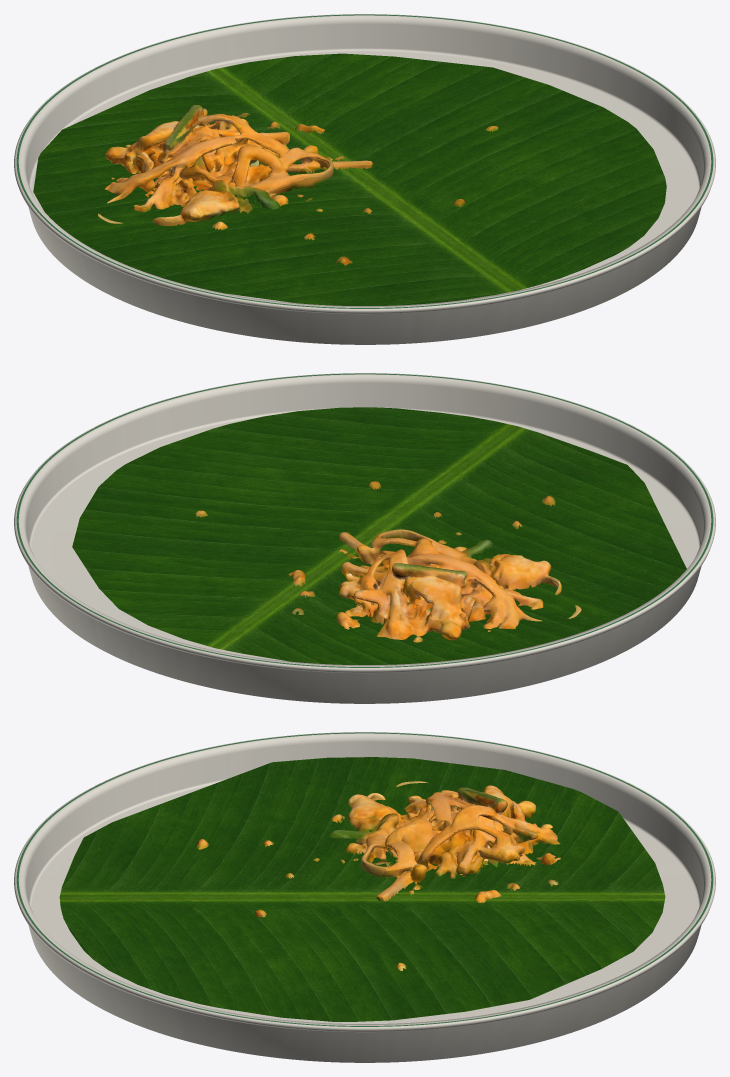
File: pad-thai-3.glb
3 renders of one model, top to bottom at view 1: azimuth 30°, elevation 25°; view 2: azimuth 150°, elevation 25°; view 3: azimuth 270°, elevation 25°, orthographic.
Parts seen in each view (by area): view 1: canonical/continuous-leaf-repair, support/regular-closed-plate, food/independent-stage-3; view 2: canonical/continuous-leaf-repair, support/regular-closed-plate, food/independent-stage-3; view 3: canonical/continuous-leaf-repair, support/regular-closed-plate, food/independent-stage-3.
Part boxes in pixels (box(x1,y1,x2,y2)): canonical/continuous-leaf-repair: box(33, 53, 666, 305); support/regular-closed-plate: box(14, 14, 715, 344); food/independent-stage-3: box(98, 105, 498, 265); canonical/continuous-leaf-repair: box(72, 407, 686, 664); support/regular-closed-plate: box(14, 373, 715, 703); food/independent-stage-3: box(195, 481, 581, 642); canonical/continuous-leaf-repair: box(59, 757, 665, 1021); support/regular-closed-plate: box(14, 732, 715, 1062); food/independent-stage-3: box(196, 781, 560, 970).
Size of the model in its own units: 2.64 by 0.3168 by 2.64.
Materials: 4 (2 with a texture image).
